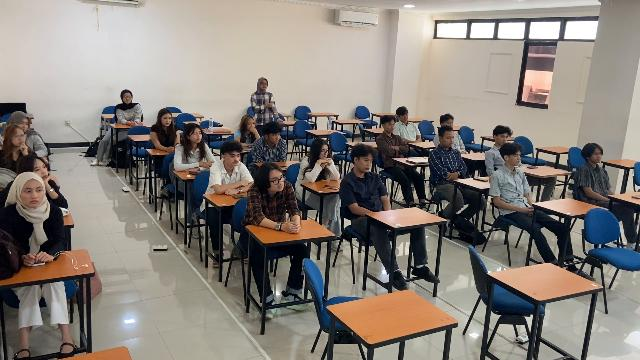fokus: (23, 184, 43, 207), (34, 160, 48, 180), (13, 128, 26, 148), (270, 173, 284, 191), (360, 155, 373, 172), (507, 151, 521, 166), (228, 150, 240, 166), (191, 128, 202, 144), (592, 148, 603, 164), (269, 131, 280, 145), (320, 144, 329, 160), (19, 118, 29, 132), (498, 131, 508, 144), (445, 133, 454, 147), (386, 120, 395, 133), (162, 115, 172, 126), (247, 119, 255, 131), (399, 114, 410, 122), (444, 119, 453, 127)
